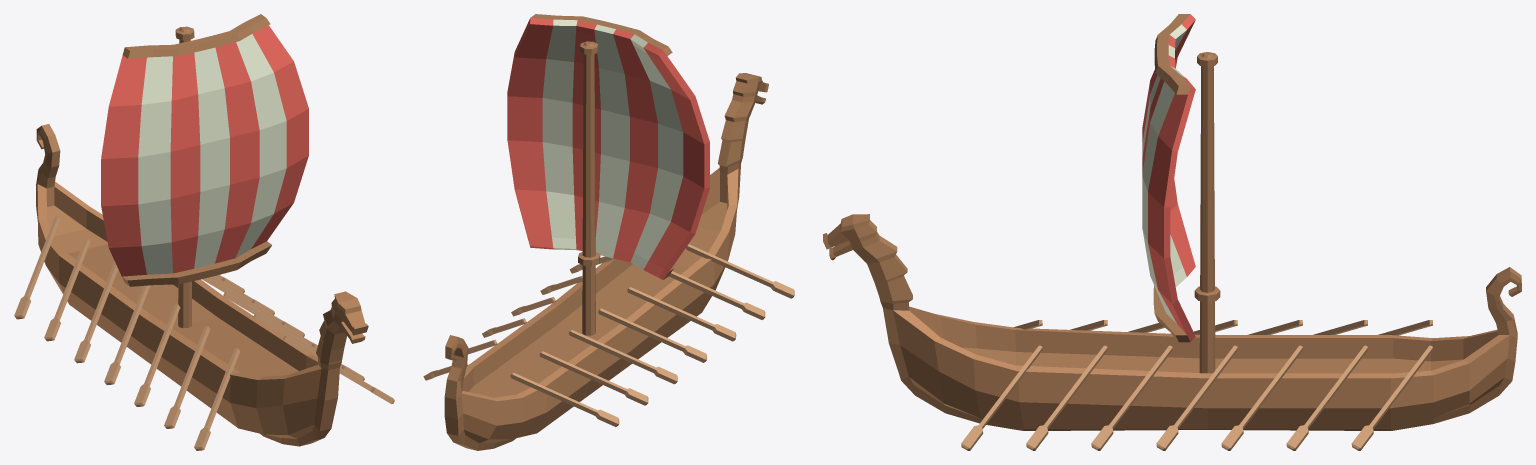
File: viking.glb
The picture shows the model from 3 angles, left to right: view 1: azimuth 30°, elevation 25°; view 2: azimuth 150°, elevation 25°; view 3: azimuth 270°, elevation 25°; orthographic projection. The views are drawn at different scales.
Parts seen in each view (by area): view 1: Sail; view 2: Sail; view 3: Sail.
Part boxes in pixels (x1=…): Sail: x1=14, y1=14, x2=394, y2=450; Sail: x1=423, y1=14, x2=794, y2=450; Sail: x1=823, y1=14, x2=1521, y2=450.
Bounding box in the file's own units: 157 × 251 × 420.
Materials: 1 (1 with a texture image).
